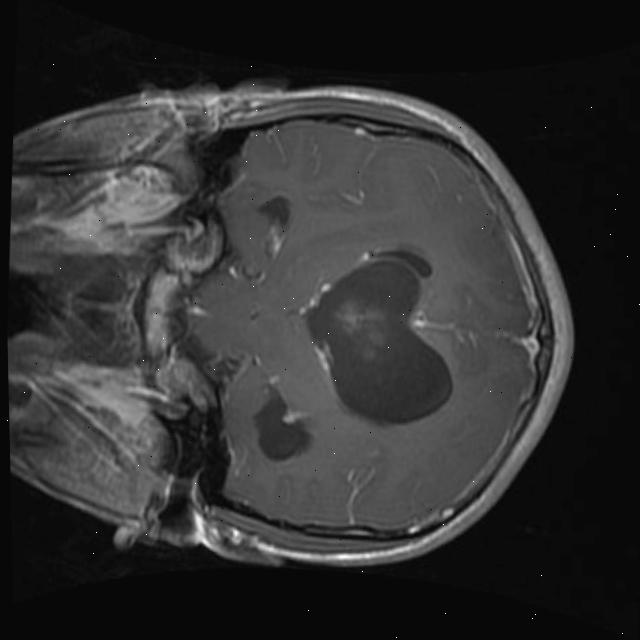Pituitary: (136, 265, 181, 361)
